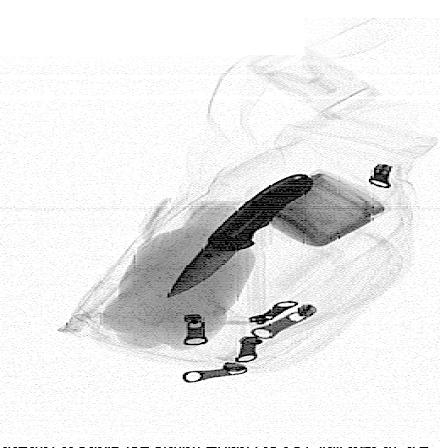Knife: (167, 173, 317, 300)
